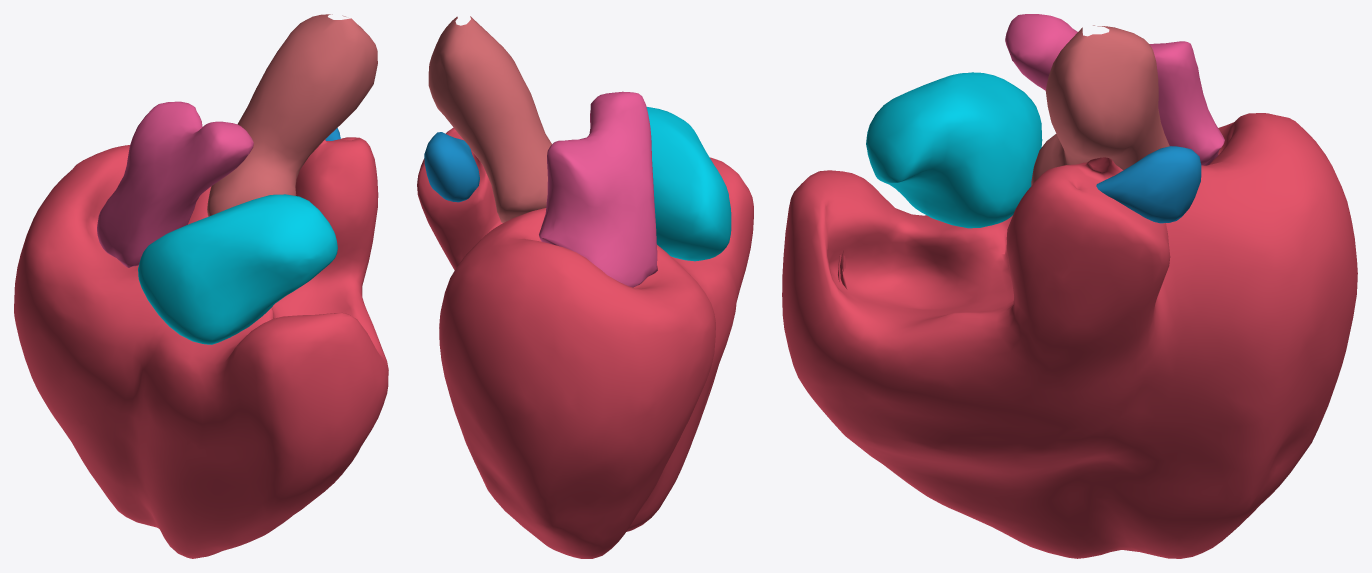
Rendered from frame_68.glb.
3 renders of one model, left to right at view 1: azimuth 30°, elevation 25°; view 2: azimuth 150°, elevation 25°; view 3: azimuth 270°, elevation 25°, orthographic. The views are drawn at different scales.
Visible parts, largest first — view 1: Renderer Node; view 2: Renderer Node; view 3: Renderer Node.
Part boxes in pixels (x1,y1,x2,y2): Renderer Node: [14, 14, 388, 558]; Renderer Node: [417, 16, 753, 558]; Renderer Node: [782, 14, 1357, 558].
Bounding box in the file's own units: 104 × 162 × 136.
